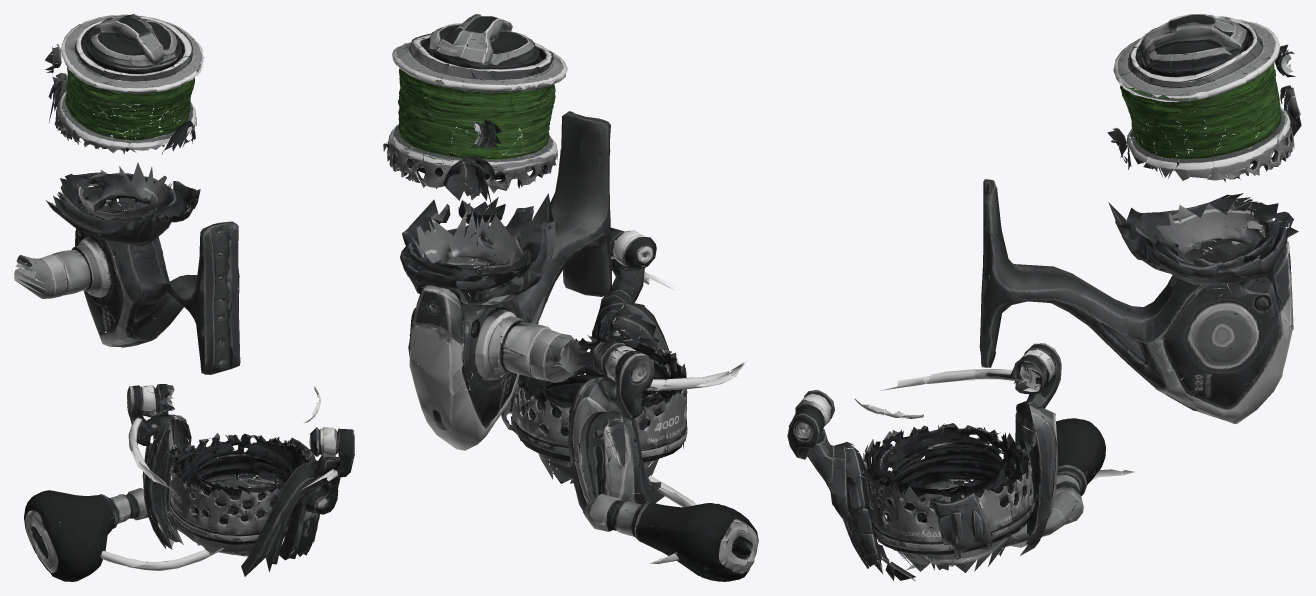
The model's file is meshy_reel.glb.
The picture shows the model from 3 angles, left to right: view 1: azimuth 30°, elevation 25°; view 2: azimuth 150°, elevation 25°; view 3: azimuth 270°, elevation 25°; orthographic projection. The views are drawn at different scales.
Parts seen in each view (by area): view 1: Body, Rotor, Crank, Bail; view 2: Body, Rotor, Crank, Bail; view 3: Body, Rotor, Crank.
Part boxes in pixels (left/top/right/bottom): Body: left=14, top=14, right=240, bottom=374; Rotor: left=127, top=384, right=354, bottom=576; Crank: left=24, top=488, right=249, bottom=581; Bail: left=59, top=522, right=223, bottom=570; Body: left=383, top=14, right=612, bottom=450; Rotor: left=501, top=227, right=746, bottom=511; Crank: left=583, top=494, right=758, bottom=581; Bail: left=648, top=475, right=696, bottom=563; Body: left=979, top=14, right=1301, bottom=423; Rotor: left=787, top=343, right=1061, bottom=581; Crank: left=903, top=418, right=1105, bottom=570.
Bounding box in the file's own units: 0.1109 × 0.208 × 0.1709.
Materials: 1 (1 with a texture image).
